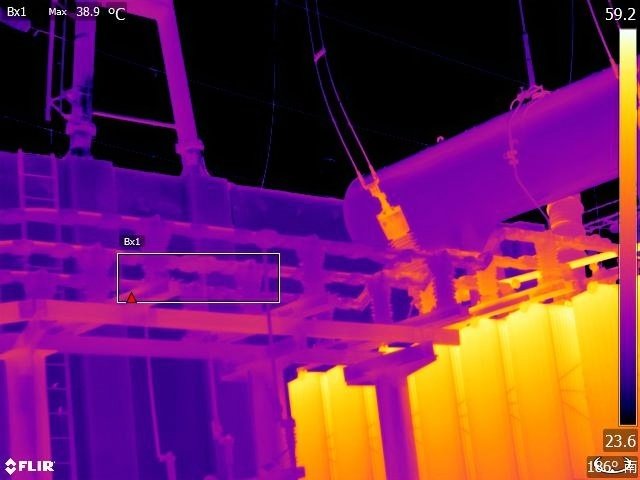post insulator: (297, 242, 334, 313), (75, 238, 115, 303), (137, 221, 176, 283), (367, 275, 408, 327), (428, 254, 456, 312), (532, 236, 566, 283), (234, 261, 262, 316), (474, 261, 505, 300)
transformer: (284, 274, 638, 480)
tube: (377, 185, 440, 316), (545, 196, 589, 289)
